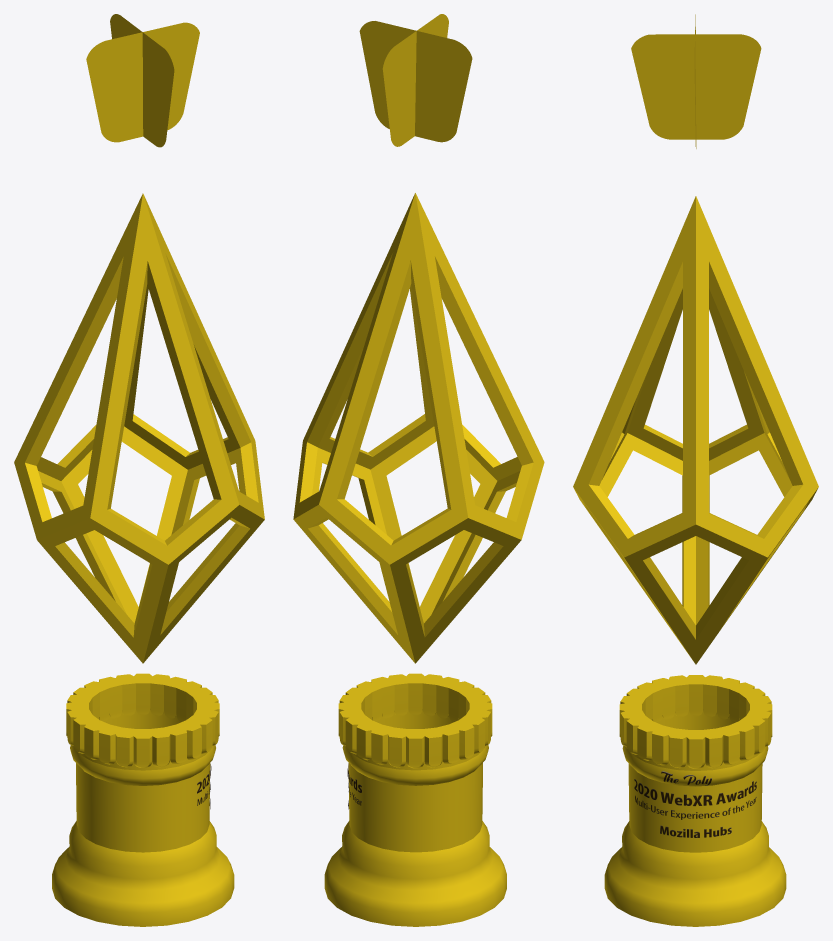
File: 16ae2b7e-6711-4841-bd19-ebdcce8d95c6_MUEOTY.glb
3 renders of one model, left to right at view 1: azimuth 30°, elevation 25°; view 2: azimuth 150°, elevation 25°; view 3: azimuth 270°, elevation 25°, orthographic.
Parts seen in each view (by area): view 1: Diamond, Base, Crown; view 2: Diamond, Base, Crown; view 3: Diamond, Base, Crown, Engravings.
Part boxes in pixels (left/top/right/bottom): Diamond: left=14, top=193, right=264, bottom=663; Base: left=52, top=673, right=234, bottom=926; Crown: left=86, top=14, right=199, bottom=147; Diamond: left=293, top=193, right=544, bottom=663; Base: left=324, top=673, right=506, bottom=926; Crown: left=359, top=14, right=472, bottom=146; Diamond: left=573, top=196, right=818, bottom=664; Base: left=604, top=675, right=786, bottom=926; Crown: left=631, top=14, right=761, bottom=148; Engravings: left=634, top=771, right=756, bottom=838.
Size of the model in its own units: 0.6616 by 2.48 by 0.6471.
Materials: 3 (2 with a texture image).
